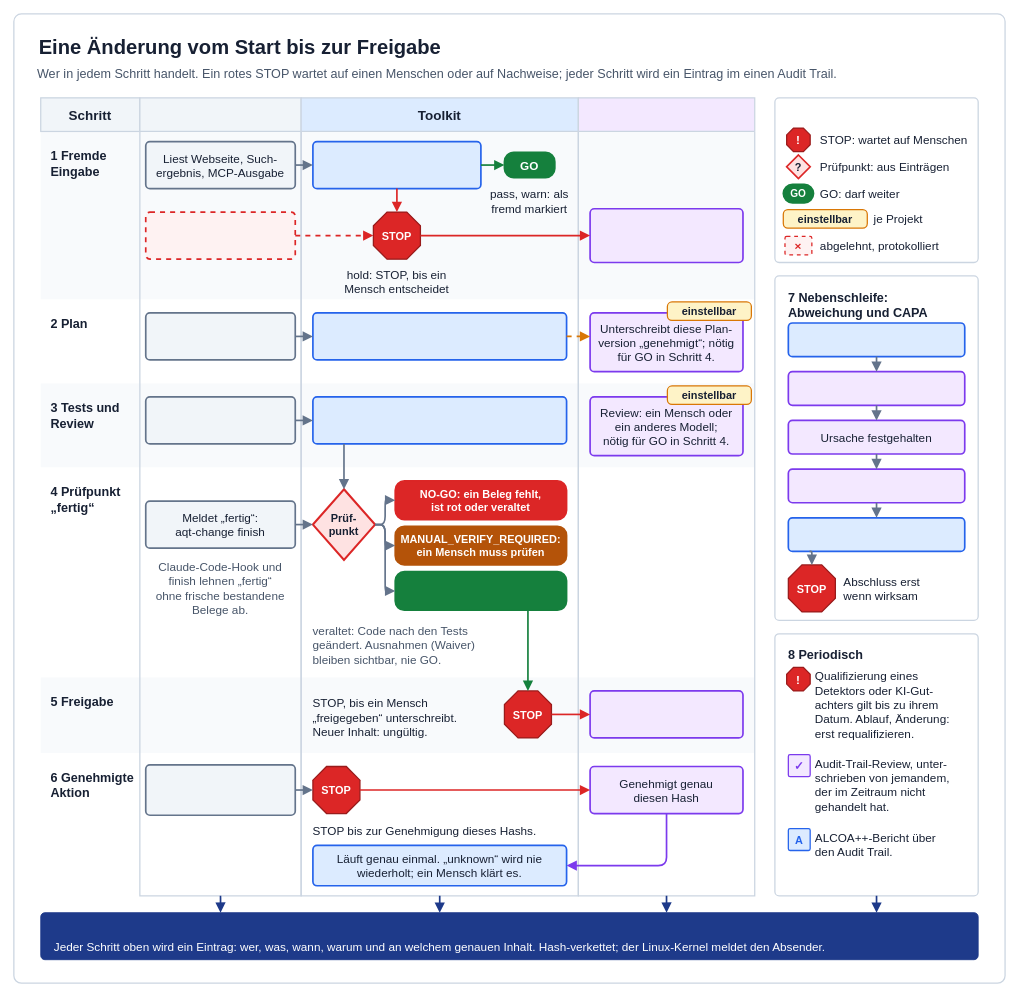
Image size: 1019x997. Some labels were removed from this diagram. Each missing label, with the box of its shape:
Abgelehnte Versuche, rote Belege → Kandidaten: (787, 322, 965, 357)
Agent: (139, 97, 301, 896)
aqt-change run: führt die Prü- fungen selbst aus, hebt Belege auf: (312, 396, 567, 444)
aqt-quarantine bewertet: pass · warn · hold: (312, 140, 481, 189)
aqt-trail · EIN Audit Trail: (40, 912, 978, 960)
Bereitet eine Aktion vor, etwa ein Deployment (prepare): (144, 764, 296, 816)
Gibt frei oder erklärt eine Bedrohung (Passphrase): (589, 207, 743, 263)
Gibt sie selbst frei: abgelehnt, protokolliert: (144, 211, 296, 260)
GO: frische bestandene Belege für jede Prüfung: (394, 570, 567, 611)
Hält die angenommene Plan- version fest (Basis-Hash): (312, 312, 567, 360)
Korrekturmaßnahme, von einem Menschen genehmigt: (787, 468, 965, 503)
Legende: (774, 97, 978, 263)
Mensch nimmt Abweichung an (oder verwirft): (787, 370, 965, 406)
Schreibt den Plan: Auf- gaben, Prüfungen, Pfade: (144, 312, 296, 360)
Unterschreibt „freigegeben“: (589, 690, 743, 738)
Verantwortliche Person: (577, 97, 755, 896)
Wirksamkeitsprüfung aus späteren Nachweisen: (787, 517, 965, 552)
Ändert den Code; lässt das Werkzeug prüfen: (144, 396, 296, 444)
